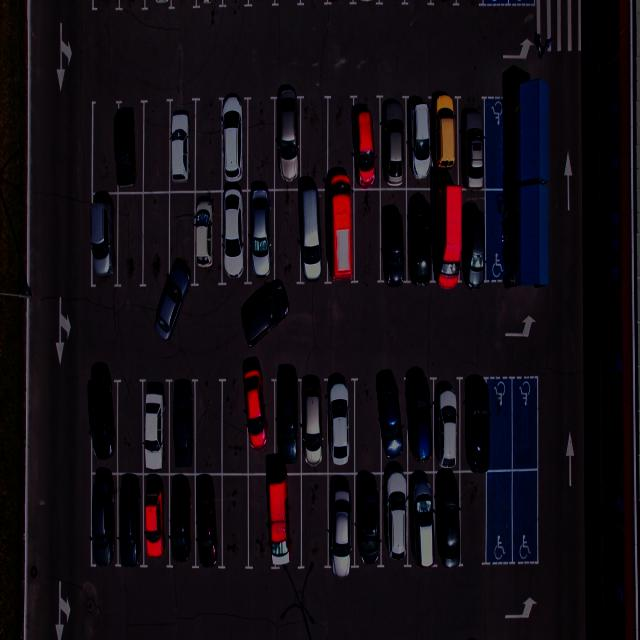empty: (298, 472, 332, 571), (116, 192, 146, 289), (141, 102, 172, 195), (169, 191, 199, 287), (142, 192, 172, 288), (196, 99, 226, 194), (352, 377, 382, 472), (194, 378, 224, 472), (351, 190, 382, 280), (272, 190, 303, 280), (220, 378, 249, 474), (328, 96, 358, 188), (220, 474, 249, 569), (247, 100, 277, 190), (116, 381, 145, 474), (513, 471, 542, 560), (510, 376, 538, 468), (248, 472, 274, 570), (462, 470, 489, 564), (485, 472, 513, 562), (299, 102, 327, 190), (93, 102, 119, 191), (488, 379, 512, 472)
occupied: (268, 470, 302, 570), (246, 373, 279, 472), (325, 375, 358, 471), (87, 374, 117, 472), (193, 477, 224, 571), (431, 188, 462, 282), (169, 101, 200, 194), (272, 376, 302, 472), (431, 378, 462, 470), (378, 473, 409, 565), (350, 471, 380, 566), (296, 189, 327, 280), (170, 380, 200, 474), (141, 382, 171, 476), (192, 190, 222, 284), (326, 474, 356, 568), (272, 98, 303, 188), (405, 376, 434, 472), (247, 188, 277, 280), (140, 475, 170, 567), (378, 377, 407, 472), (326, 188, 356, 279), (115, 101, 145, 192), (218, 191, 248, 282), (88, 193, 117, 287), (298, 377, 326, 473), (434, 96, 463, 188), (407, 188, 436, 280), (378, 188, 407, 280), (170, 472, 198, 567), (351, 98, 380, 188), (407, 96, 436, 186), (220, 100, 248, 192), (378, 99, 406, 190), (434, 470, 461, 563), (409, 470, 436, 563), (117, 472, 144, 564), (466, 379, 492, 472), (89, 474, 115, 561), (464, 99, 488, 190), (465, 190, 487, 284)
